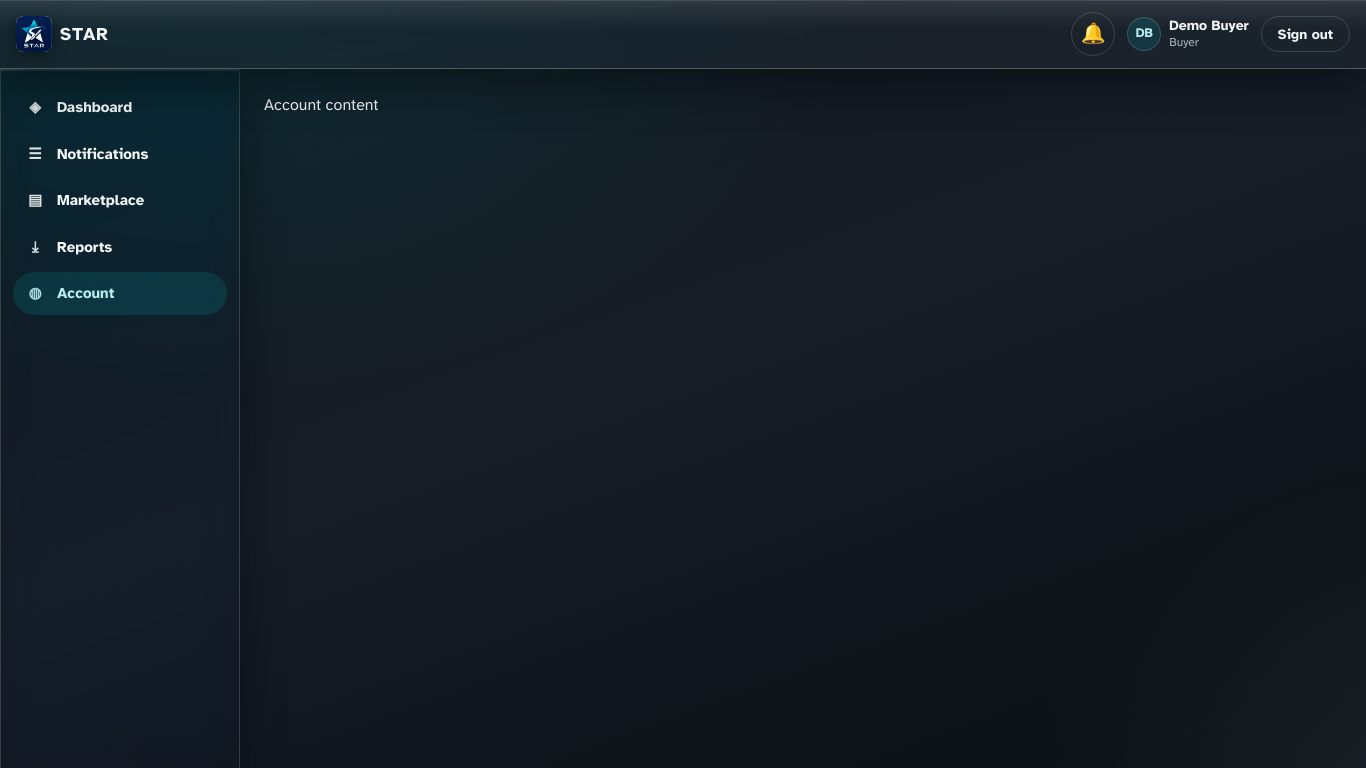
Test: AppShell › signs out and returns to the login page
This screenshot has width=1366, height=768.
Click the button "Sign out" at (1305, 34), box [1261, 16, 1350, 52]
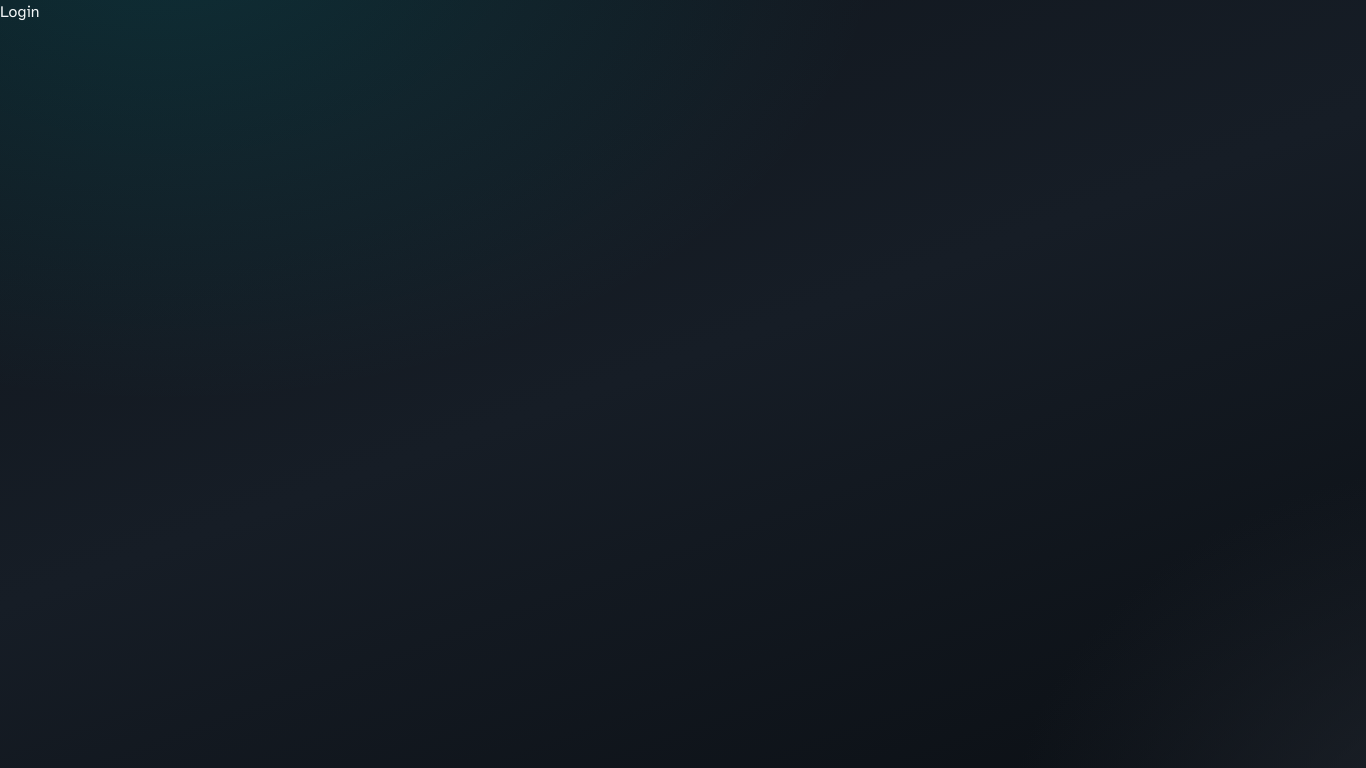
expect the text "Login" is shown: met, box [0, 2, 40, 22]
